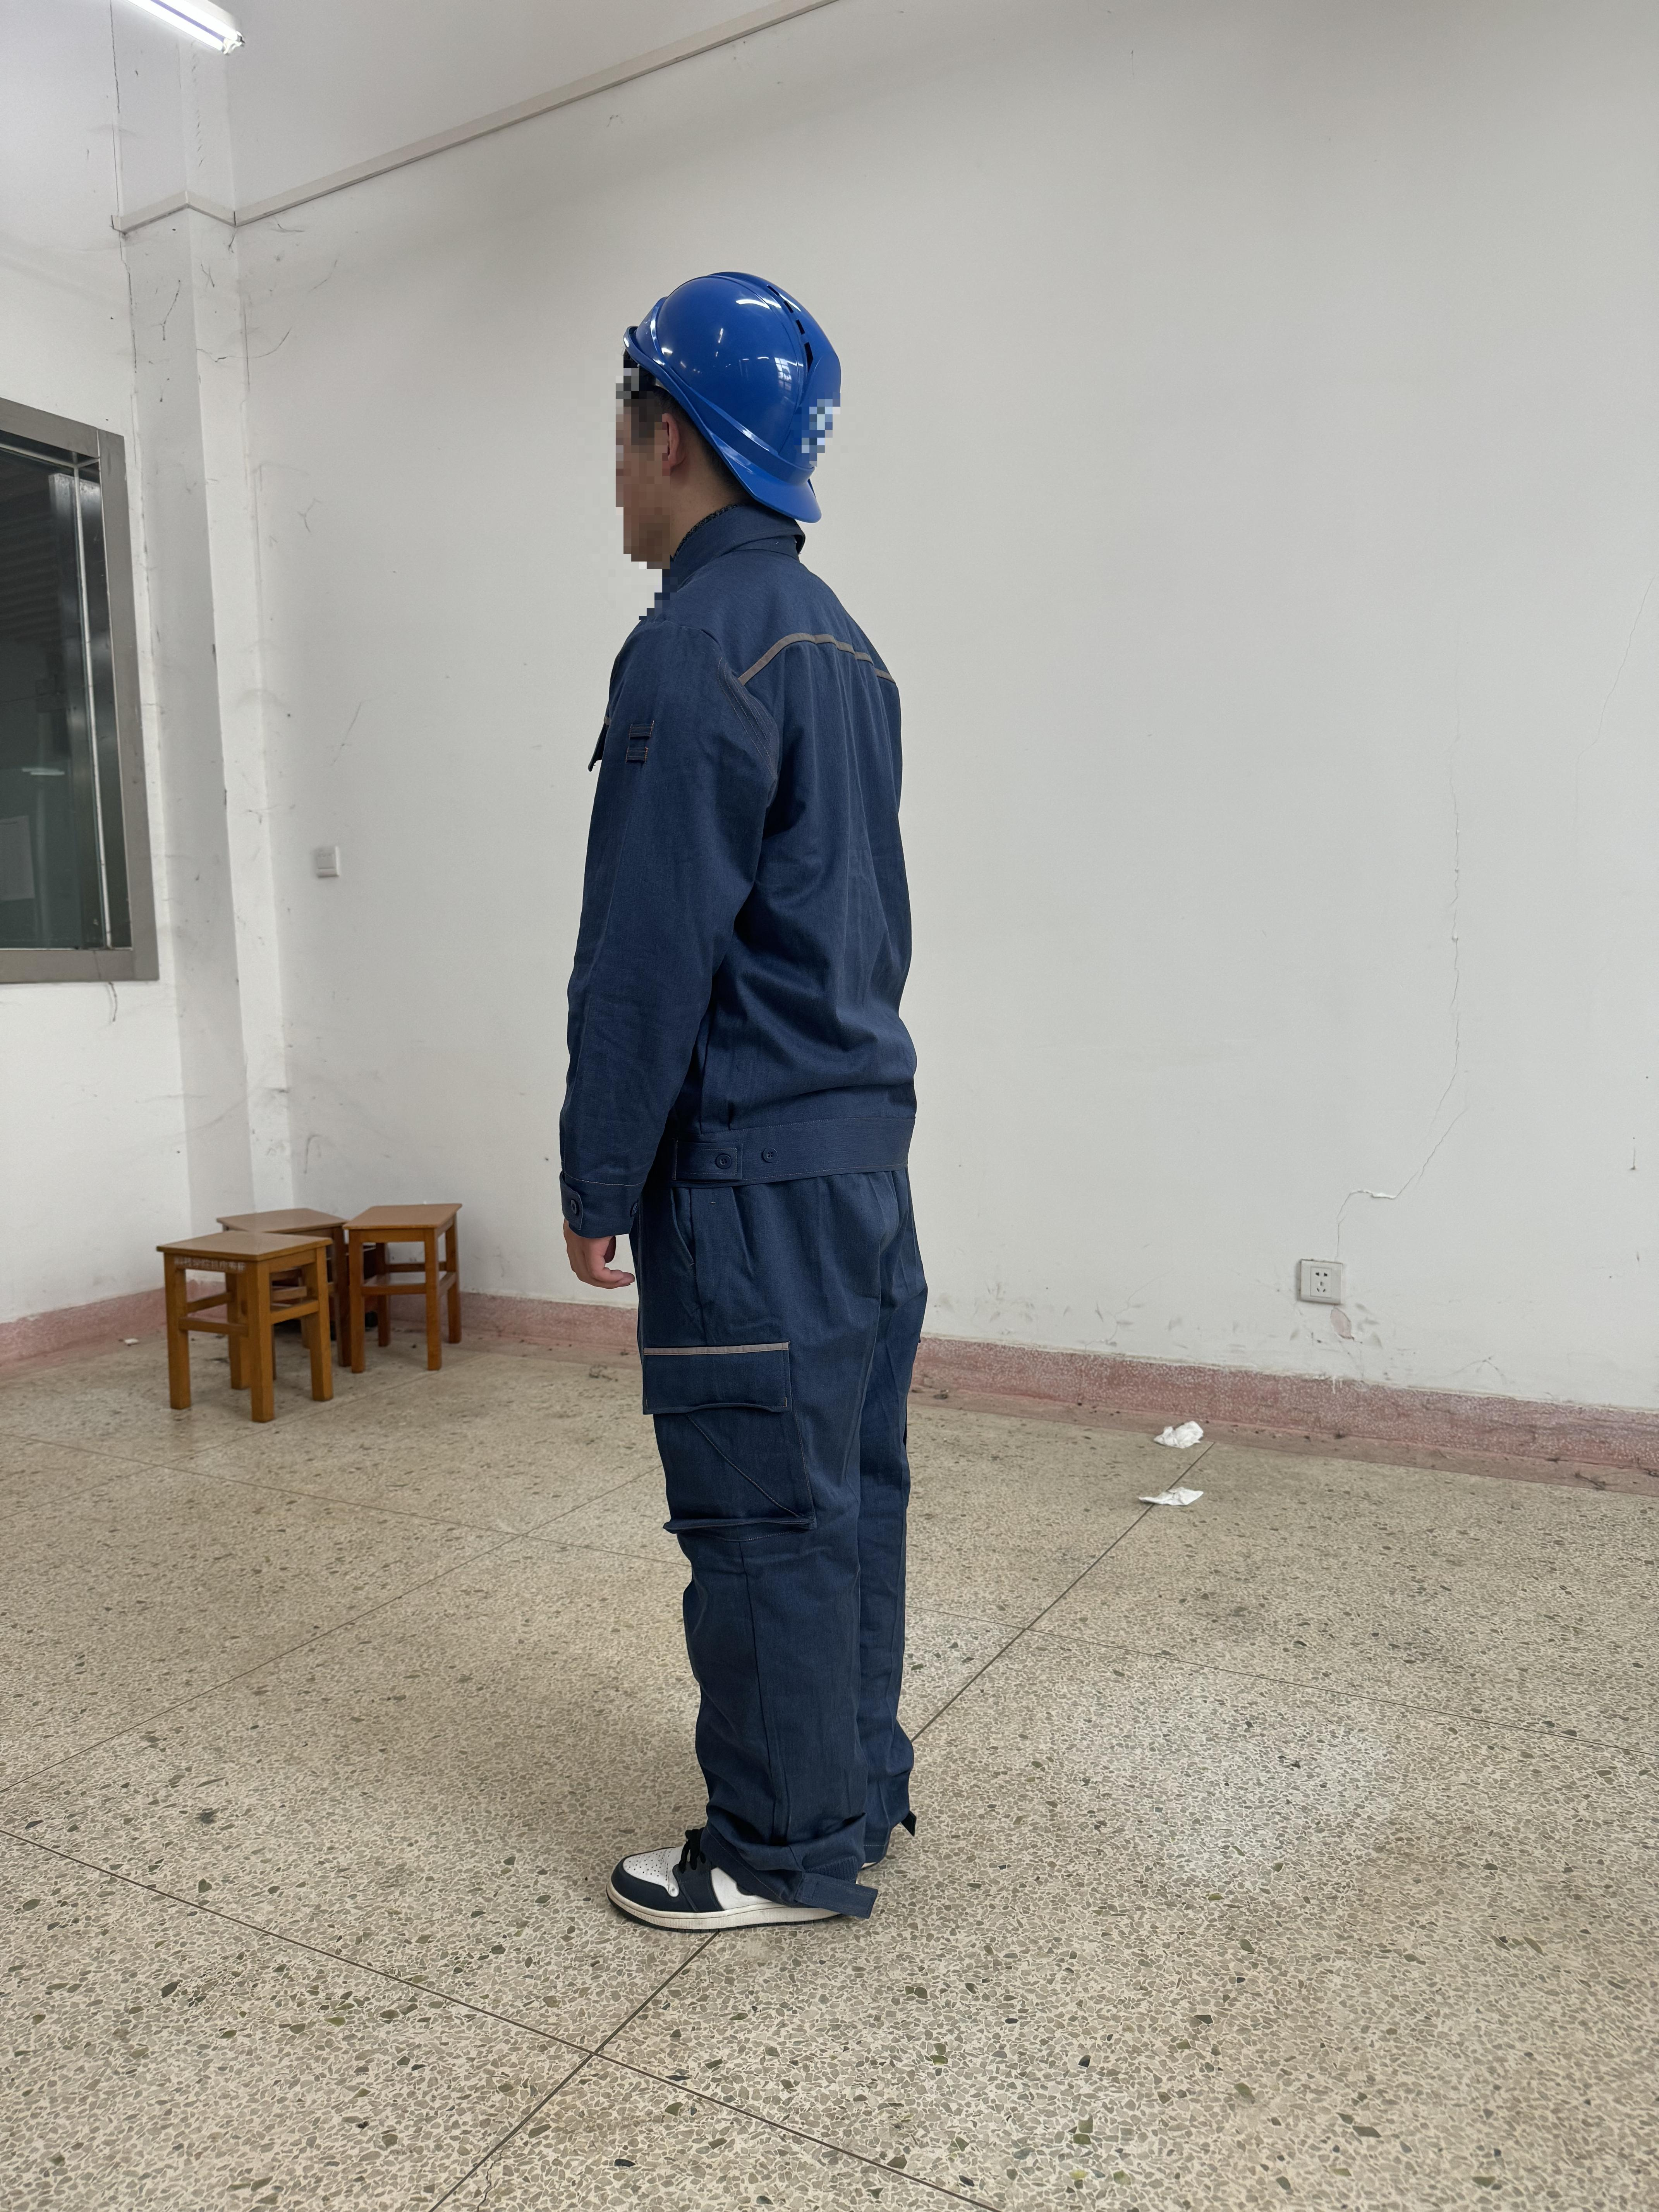noear: (619, 399, 708, 545)
